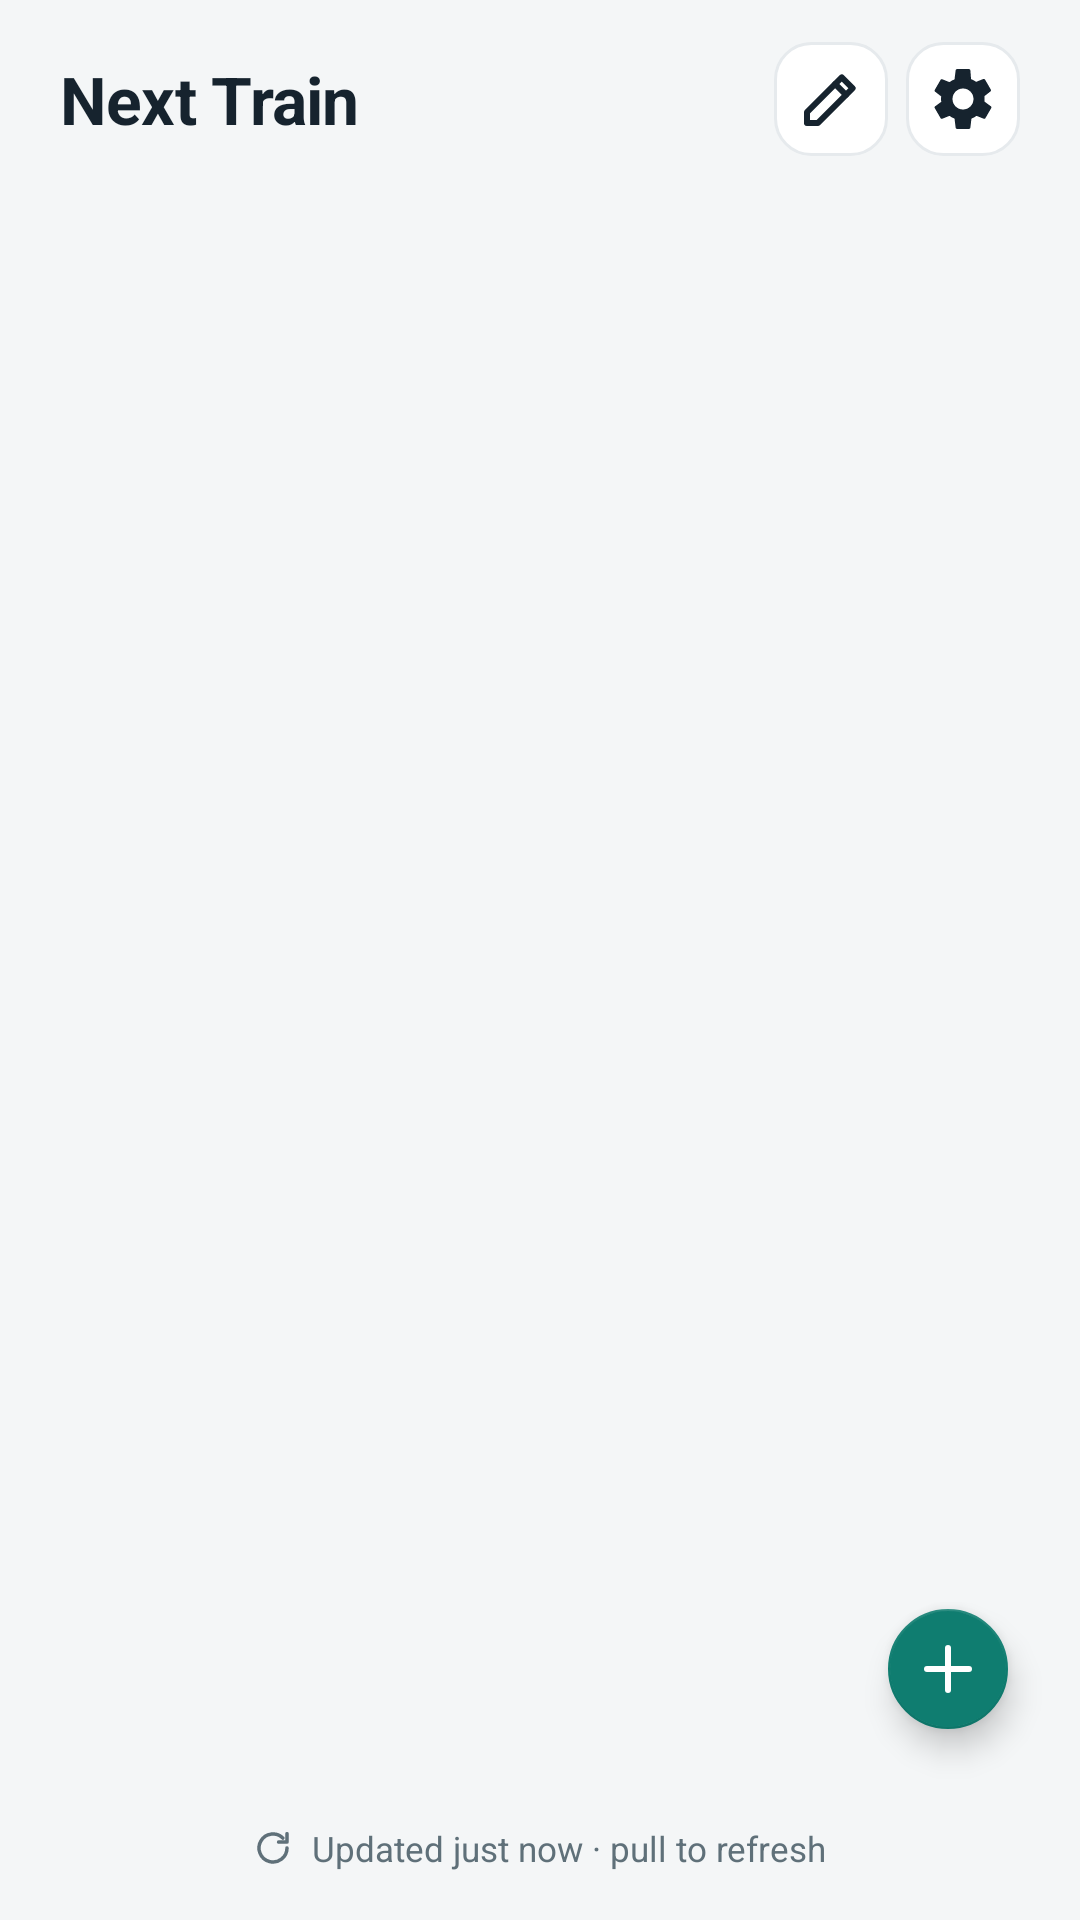

Where icons sit on this 1080w x 1920h app screen, as detection(x1, y1, x2, y2):
Add route: detection(888, 1609, 1011, 1741)
Edit routes: detection(774, 42, 888, 156)
Settings: detection(934, 69, 992, 129)
